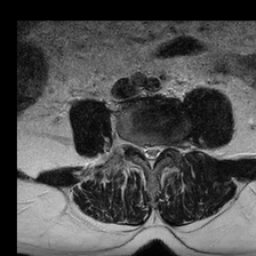CCS_normal: (147, 138, 155, 175)
LFS_severe_stenosis: (164, 135, 172, 156)
LLS_normal: (155, 136, 164, 161)
RFS_stenosis: (132, 133, 140, 157)
RLS_normal: (140, 136, 147, 165)
